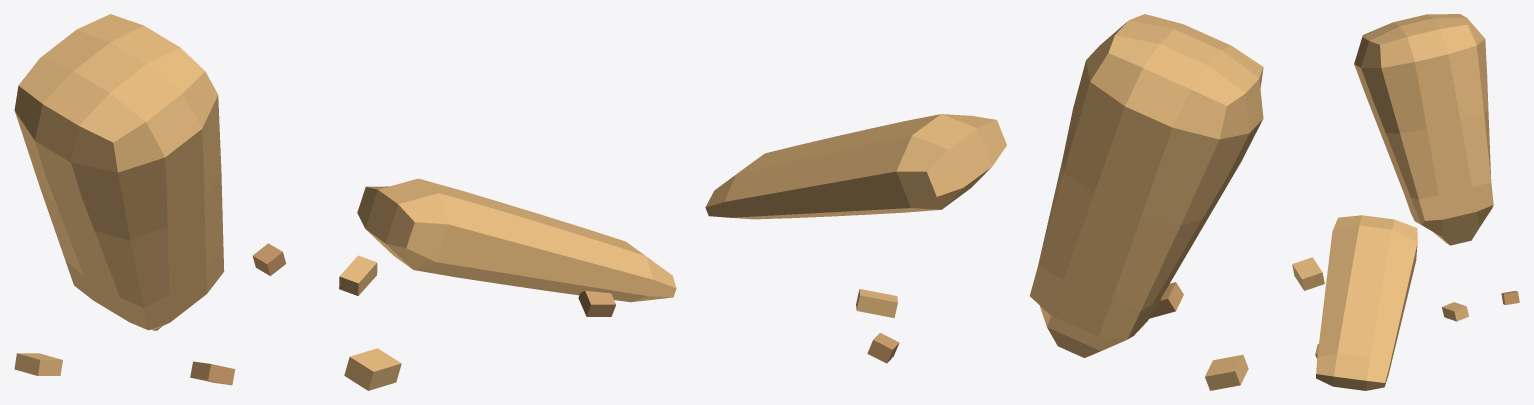
The model's file is fried_chicken.glb.
The picture shows the model from 3 angles, left to right: view 1: azimuth 30°, elevation 25°; view 2: azimuth 150°, elevation 25°; view 3: azimuth 270°, elevation 25°; orthographic projection. The views are drawn at different scales.
Parts seen in each view (by area): view 1: Chicken_Drumette, Chicken_WingFlat, Crumb_01, Crumb_03, Crumb_05, Crumb_04, Crumb_02, Crumb_06; view 2: Chicken_Drumette, Chicken_WingFlat, Crumb_05, Crumb_03, Crumb_02, Crumb_06; view 3: Chicken_Drumette, Chicken_WingFlat, Crumb_01, Crumb_03, Crumb_06.
Boxes of the visible parts, box(x1,y1,x2,y2) form: Chicken_Drumette: box(14, 14, 224, 330); Chicken_WingFlat: box(357, 178, 676, 302); Crumb_01: box(344, 348, 401, 390); Crumb_03: box(339, 255, 377, 295); Crumb_05: box(14, 353, 62, 375); Crumb_04: box(578, 290, 615, 316); Crumb_02: box(190, 361, 235, 385); Crumb_06: box(252, 243, 286, 275); Chicken_Drumette: box(1030, 14, 1263, 357); Chicken_WingFlat: box(705, 114, 1006, 219); Crumb_05: box(1205, 354, 1248, 390); Crumb_03: box(856, 289, 897, 317); Crumb_02: box(1149, 282, 1183, 318); Crumb_06: box(867, 333, 899, 363); Chicken_Drumette: box(1354, 14, 1493, 245); Chicken_WingFlat: box(1316, 215, 1417, 390); Crumb_01: box(1292, 257, 1324, 290); Crumb_03: box(1442, 302, 1468, 321); Crumb_06: box(1501, 291, 1519, 304).
Bounding box in the file's own units: 0.2437 × 0.1313 × 0.1239.
